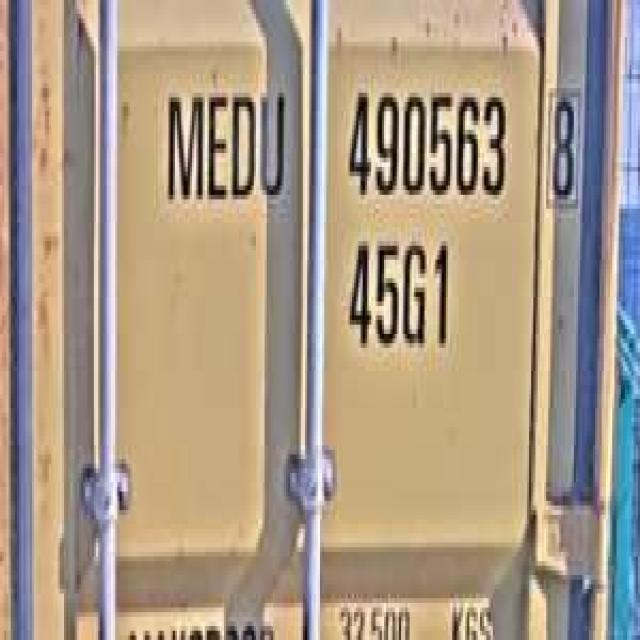dv: (540, 74, 584, 223)
owner: (160, 74, 290, 214)
serial: (339, 70, 512, 214)
size: (342, 228, 454, 366)
